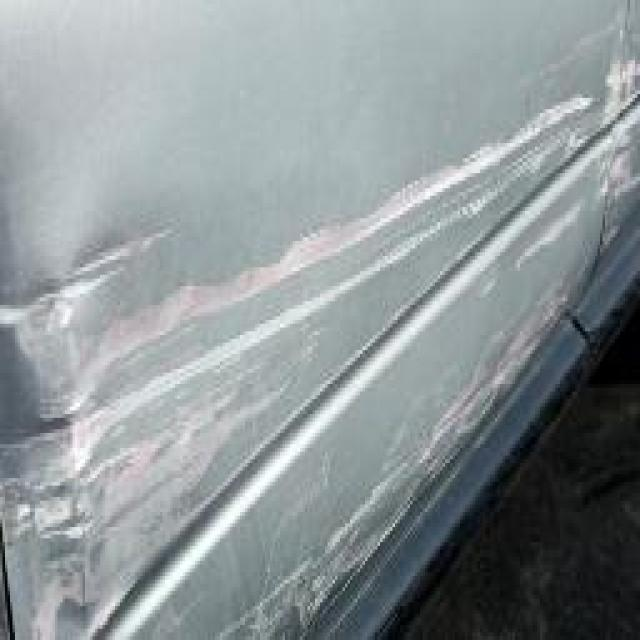Door: (0, 64, 640, 640)
